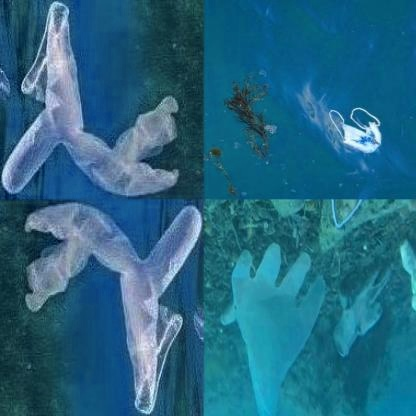Mask: (323, 108, 391, 154)
glove: (22, 201, 203, 414), (1, 1, 183, 198), (209, 236, 325, 416), (336, 248, 391, 372), (392, 222, 416, 333)
